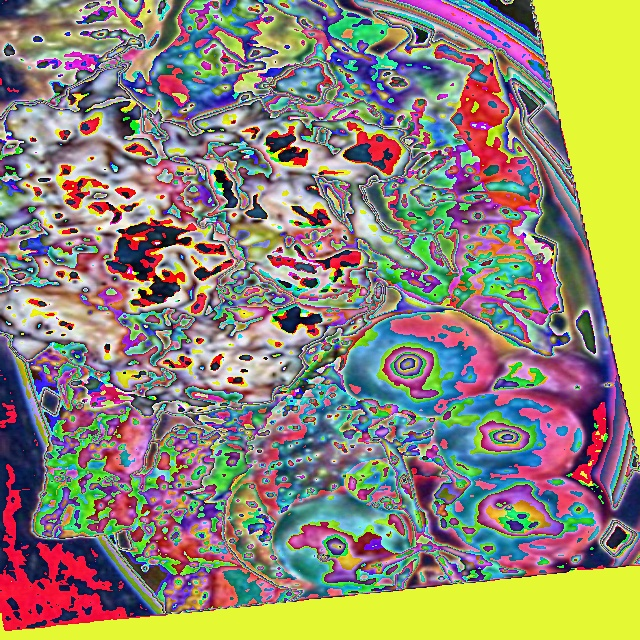background: (0, 0, 605, 614)
